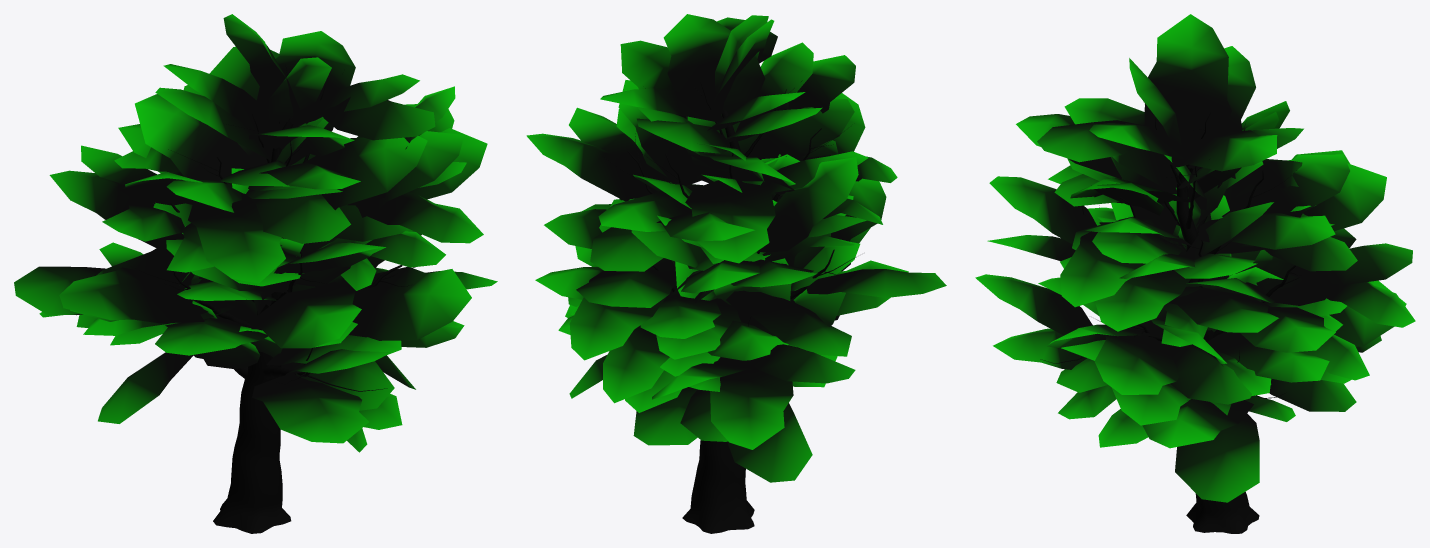
The model's file is SM_Oak_Tree_03.fbx.
The picture shows the model from 3 angles, left to right: view 1: azimuth 30°, elevation 25°; view 2: azimuth 150°, elevation 25°; view 3: azimuth 270°, elevation 25°; orthographic projection. The views are drawn at different scales.
Parts seen in each view (by area): view 1: SM_Oak_Tree_03; view 2: SM_Oak_Tree_03; view 3: SM_Oak_Tree_03.
Part boxes in pixels (x1,y1,x2,y2): SM_Oak_Tree_03: [14, 14, 497, 533]; SM_Oak_Tree_03: [526, 14, 946, 533]; SM_Oak_Tree_03: [975, 14, 1415, 533].
Size of the model in its own units: 644 by 779 by 636.
